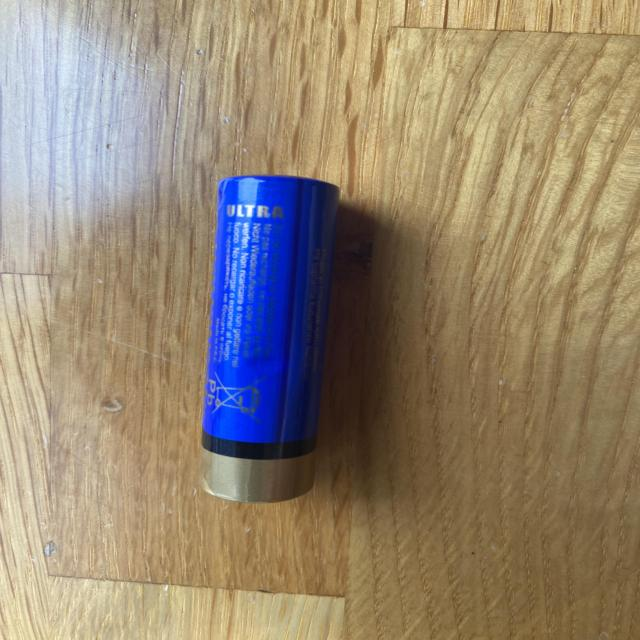AA: (199, 174, 340, 503)
